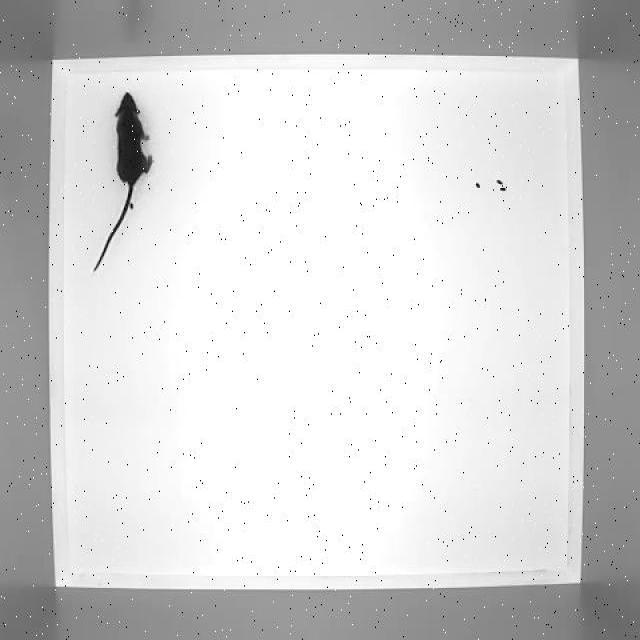rat: (91, 88, 156, 275)
